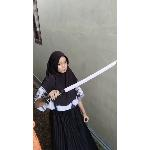Pedang: (41, 58, 117, 106)
